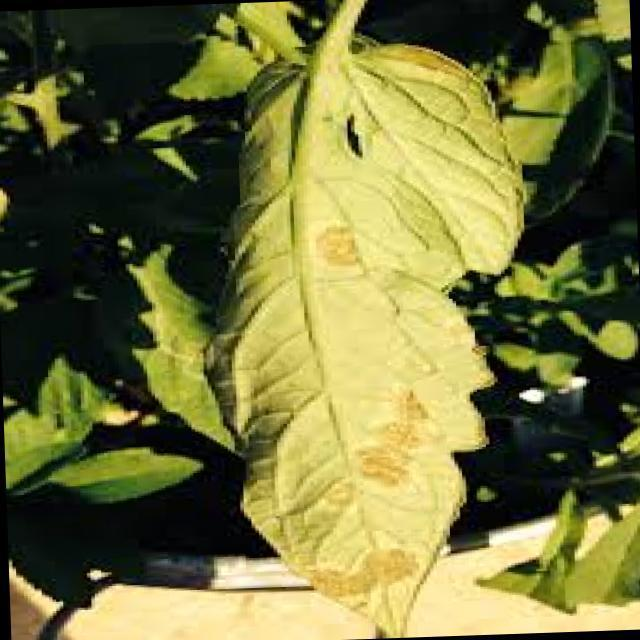Mosaic Virus: (256, 195, 462, 608)
